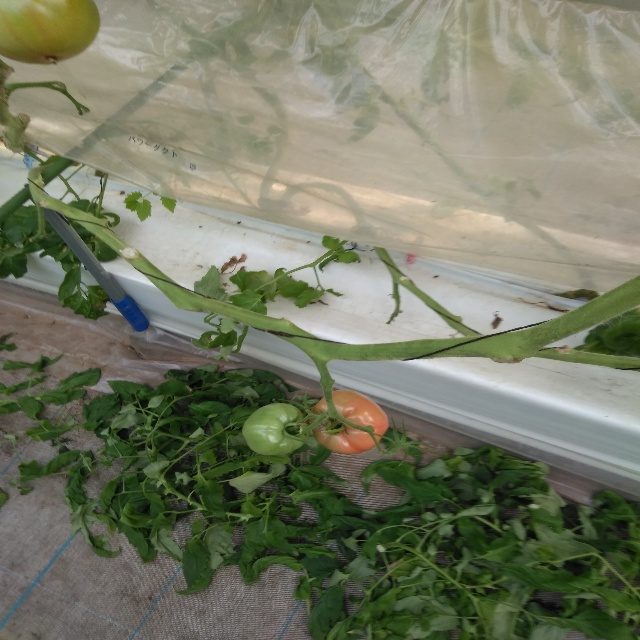b_green: (0, 0, 100, 65), (241, 403, 310, 456)
b_half_ripened: (310, 389, 389, 454)
